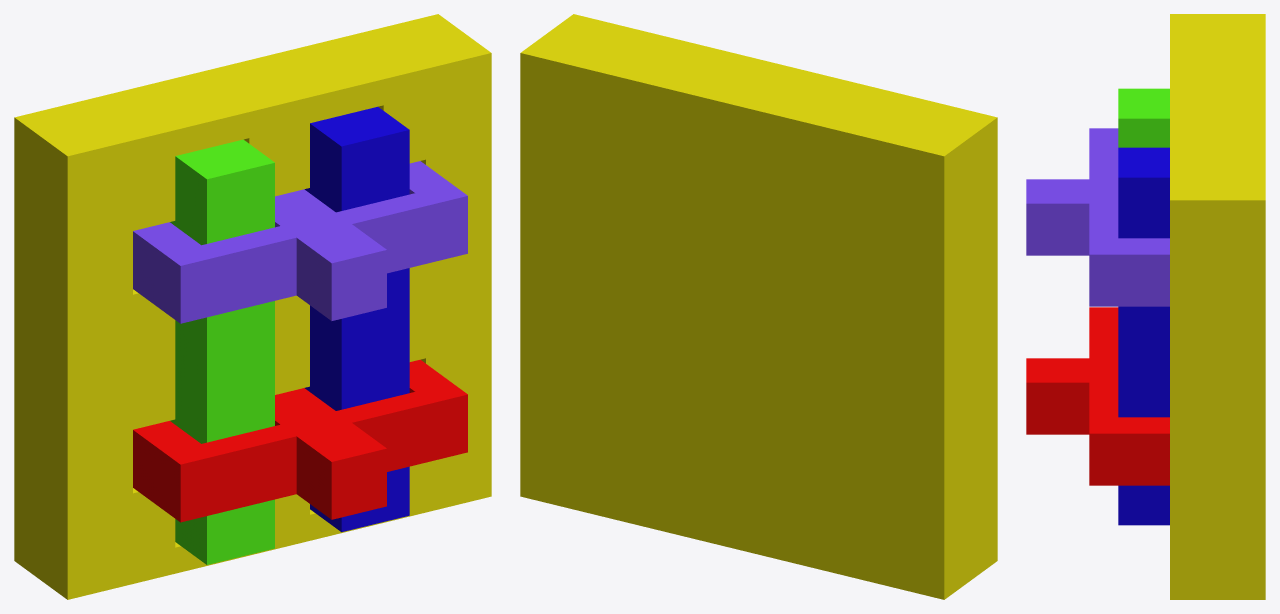
File: assembly3.obj
3 views of the same model, side by side, from view 1: azimuth 30°, elevation 25°; view 2: azimuth 150°, elevation 25°; view 3: azimuth 270°, elevation 25° (orthographic). The views are drawn at different scales.
Visible parts, largest first — view 1: obj1, obj4, obj5, obj2, obj3; view 2: obj1; view 3: obj1, obj4, obj5, obj3, obj2.
Part boxes in pixels (box(x1,y1,x2,y2)): obj1: box(14, 14, 491, 599); obj4: box(133, 359, 467, 522); obj5: box(133, 161, 467, 323); obj2: box(170, 139, 274, 564); obj3: box(304, 106, 409, 532); obj1: box(520, 14, 997, 599); obj1: box(1170, 14, 1265, 599); obj4: box(1026, 307, 1169, 485); obj5: box(1026, 128, 1169, 306); obj3: box(1118, 147, 1169, 525); obj2: box(1118, 88, 1169, 147).
Size of the model in its own units: 230 by 230 by 125.
